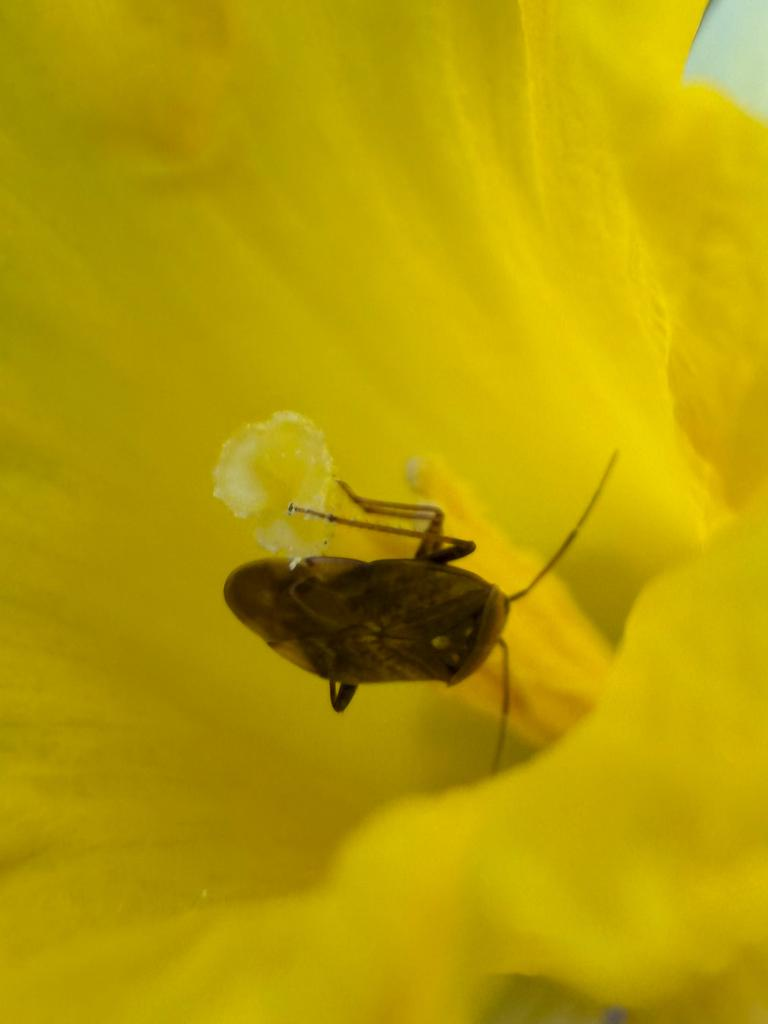plant_bugs: (147, 414, 683, 846)
